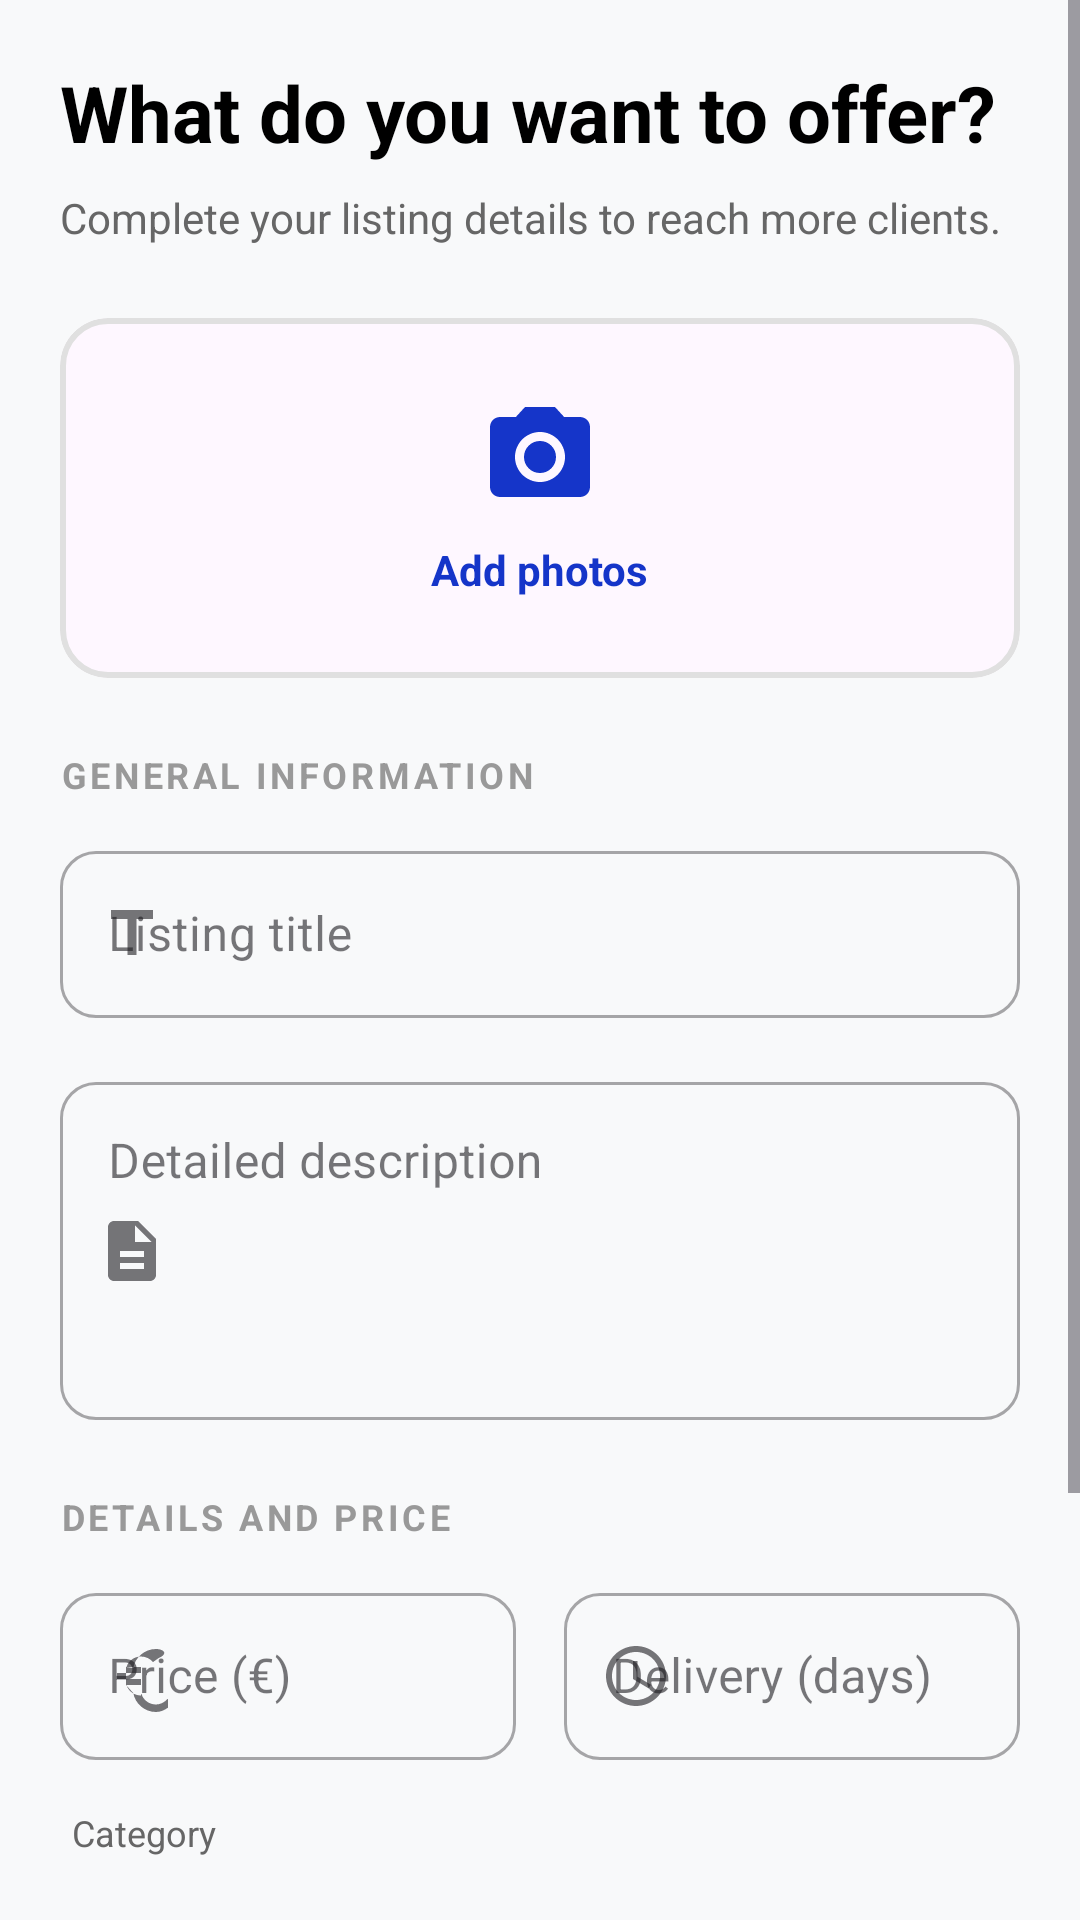

Icon click points for this 1080x1920 phone screenshot, format [x,y]:
camera: [540,452]
